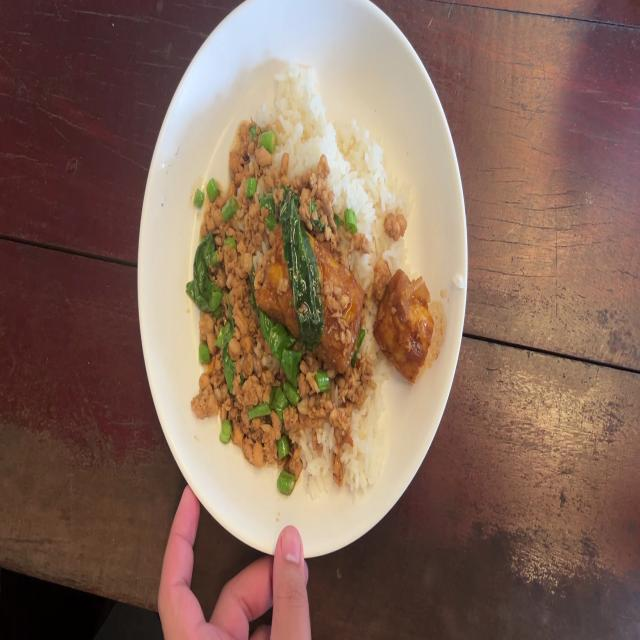01rice: (334, 115, 389, 230), (277, 67, 337, 172), (358, 226, 379, 368), (304, 426, 338, 488), (348, 409, 376, 482)
fried_tofo: (258, 227, 363, 364), (376, 270, 433, 384)
minced_pork: (196, 369, 366, 478), (193, 112, 258, 375), (253, 140, 334, 230)
stir_fried_basil: (189, 65, 434, 496)
